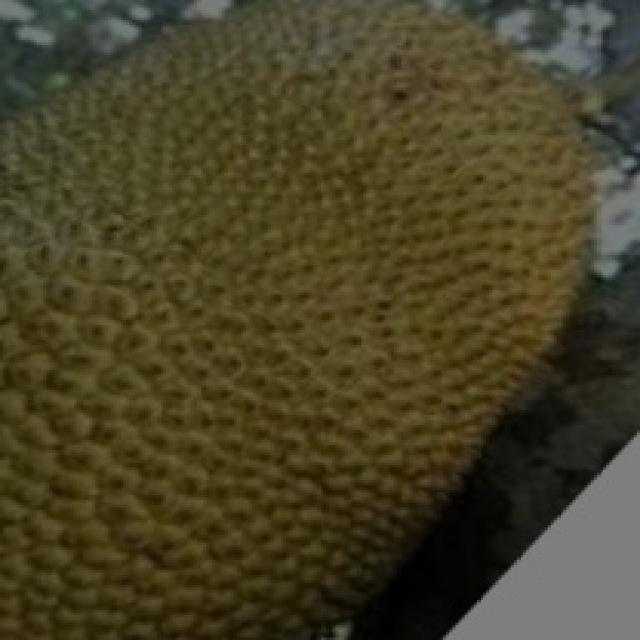Fruit: (0, 0, 397, 350), (261, 0, 640, 322)
